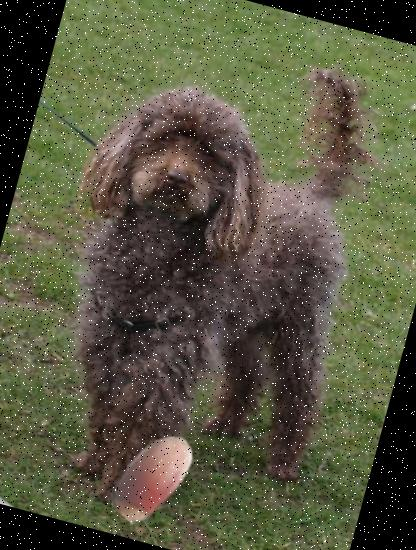Hazelnut: (91, 413, 215, 537)
